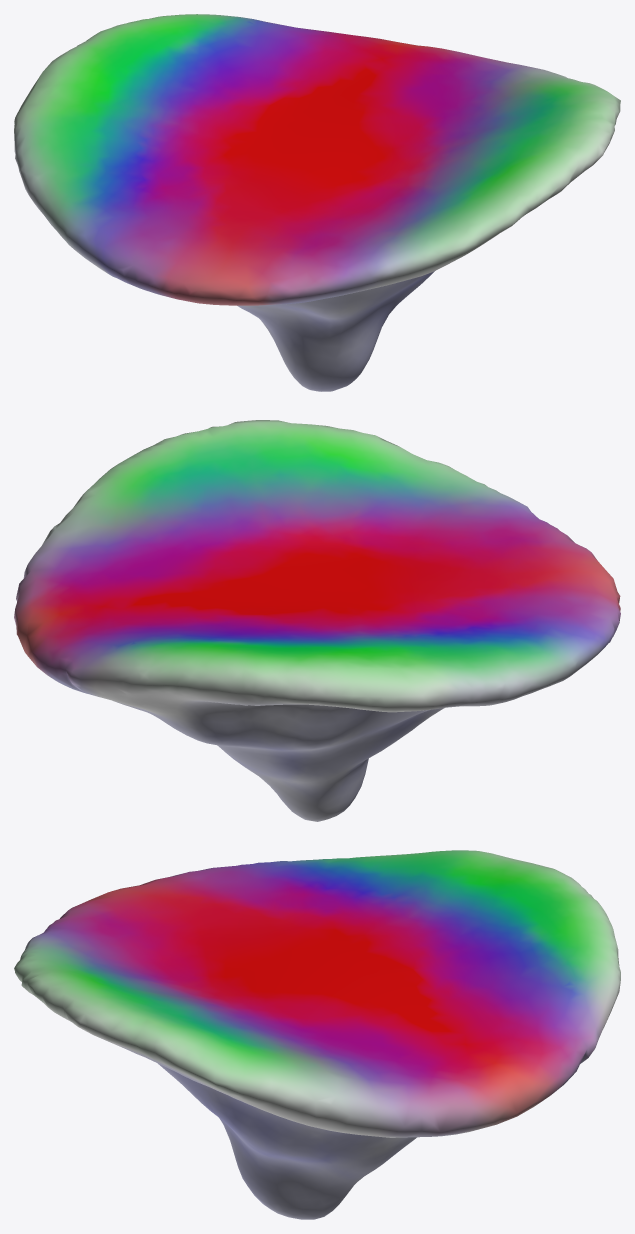
The model's file is Floating Island FlatLarge.fbx.
The picture shows the model from 3 angles, top to bottom: view 1: azimuth 30°, elevation 25°; view 2: azimuth 150°, elevation 25°; view 3: azimuth 270°, elevation 25°; orthographic projection. The views are drawn at different scales.
Parts seen in each view (by area): view 1: Sphere; view 2: Sphere; view 3: Sphere.
Part boxes in pixels (x1,y1,x2,y2): Sphere: [14, 14, 620, 391]; Sphere: [14, 420, 620, 821]; Sphere: [14, 850, 620, 1219].
Size of the model in its own units: 174 by 91.79 by 174.
